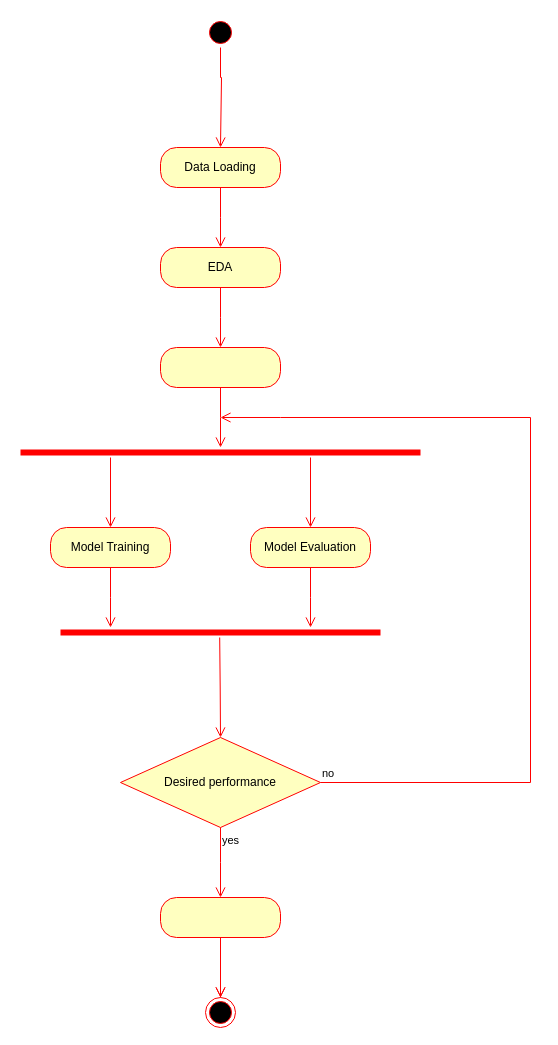
Image size: 558x1045. Some labels were removed from this diagram. The centre of each missing label's shape, as x and y in pixels:
"Model Prediction" belongs at point 220,917.
"Splitting" belongs at point 220,367.
